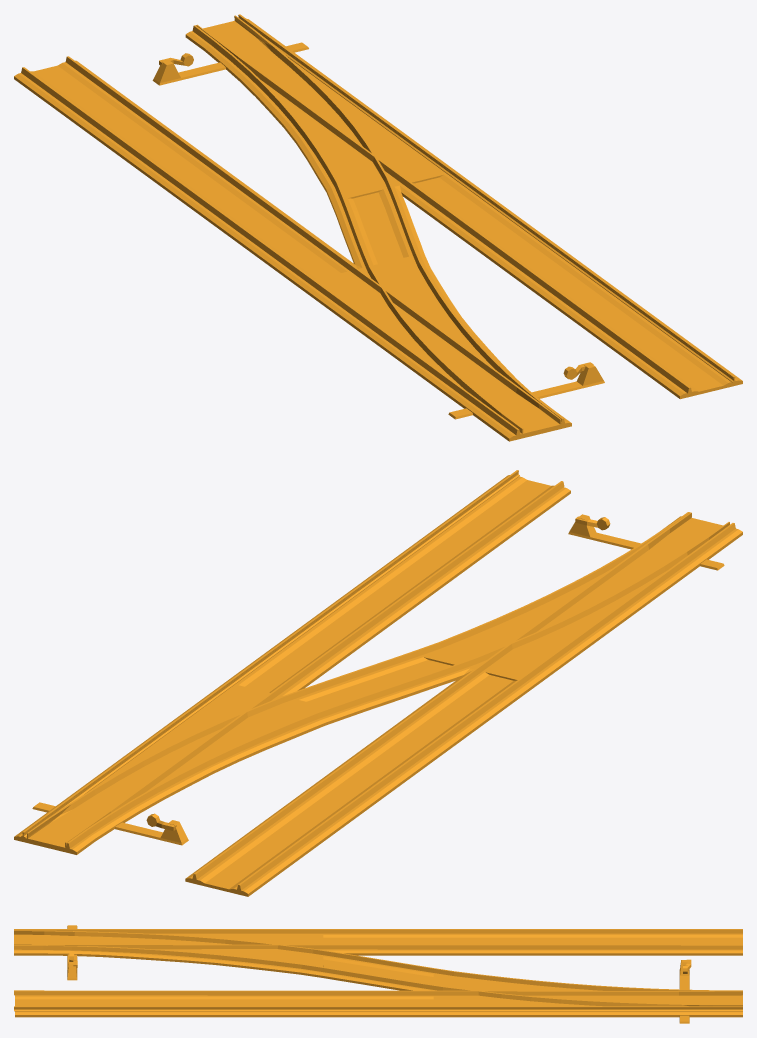
File: SM_Train_Rail_Switch_Double_Collider.fbx
3 views of the same model, one above another, from view 1: azimuth 30°, elevation 25°; view 2: azimuth 150°, elevation 25°; view 3: azimuth 270°, elevation 25° (orthographic). The views are drawn at different scales.
Parts seen in each view (by area): view 1: SM_Train_Rail_Switch_Double_Collider; view 2: SM_Train_Rail_Switch_Double_Collider; view 3: SM_Train_Rail_Switch_Double_Collider.
Part boxes in pixels (x1,y1,x2,y2): SM_Train_Rail_Switch_Double_Collider: (14,14,742,441); SM_Train_Rail_Switch_Double_Collider: (14,470,742,896); SM_Train_Rail_Switch_Double_Collider: (14,925,742,1023).
Bounding box in the file's own units: 9.45 × 0.697 × 30.
